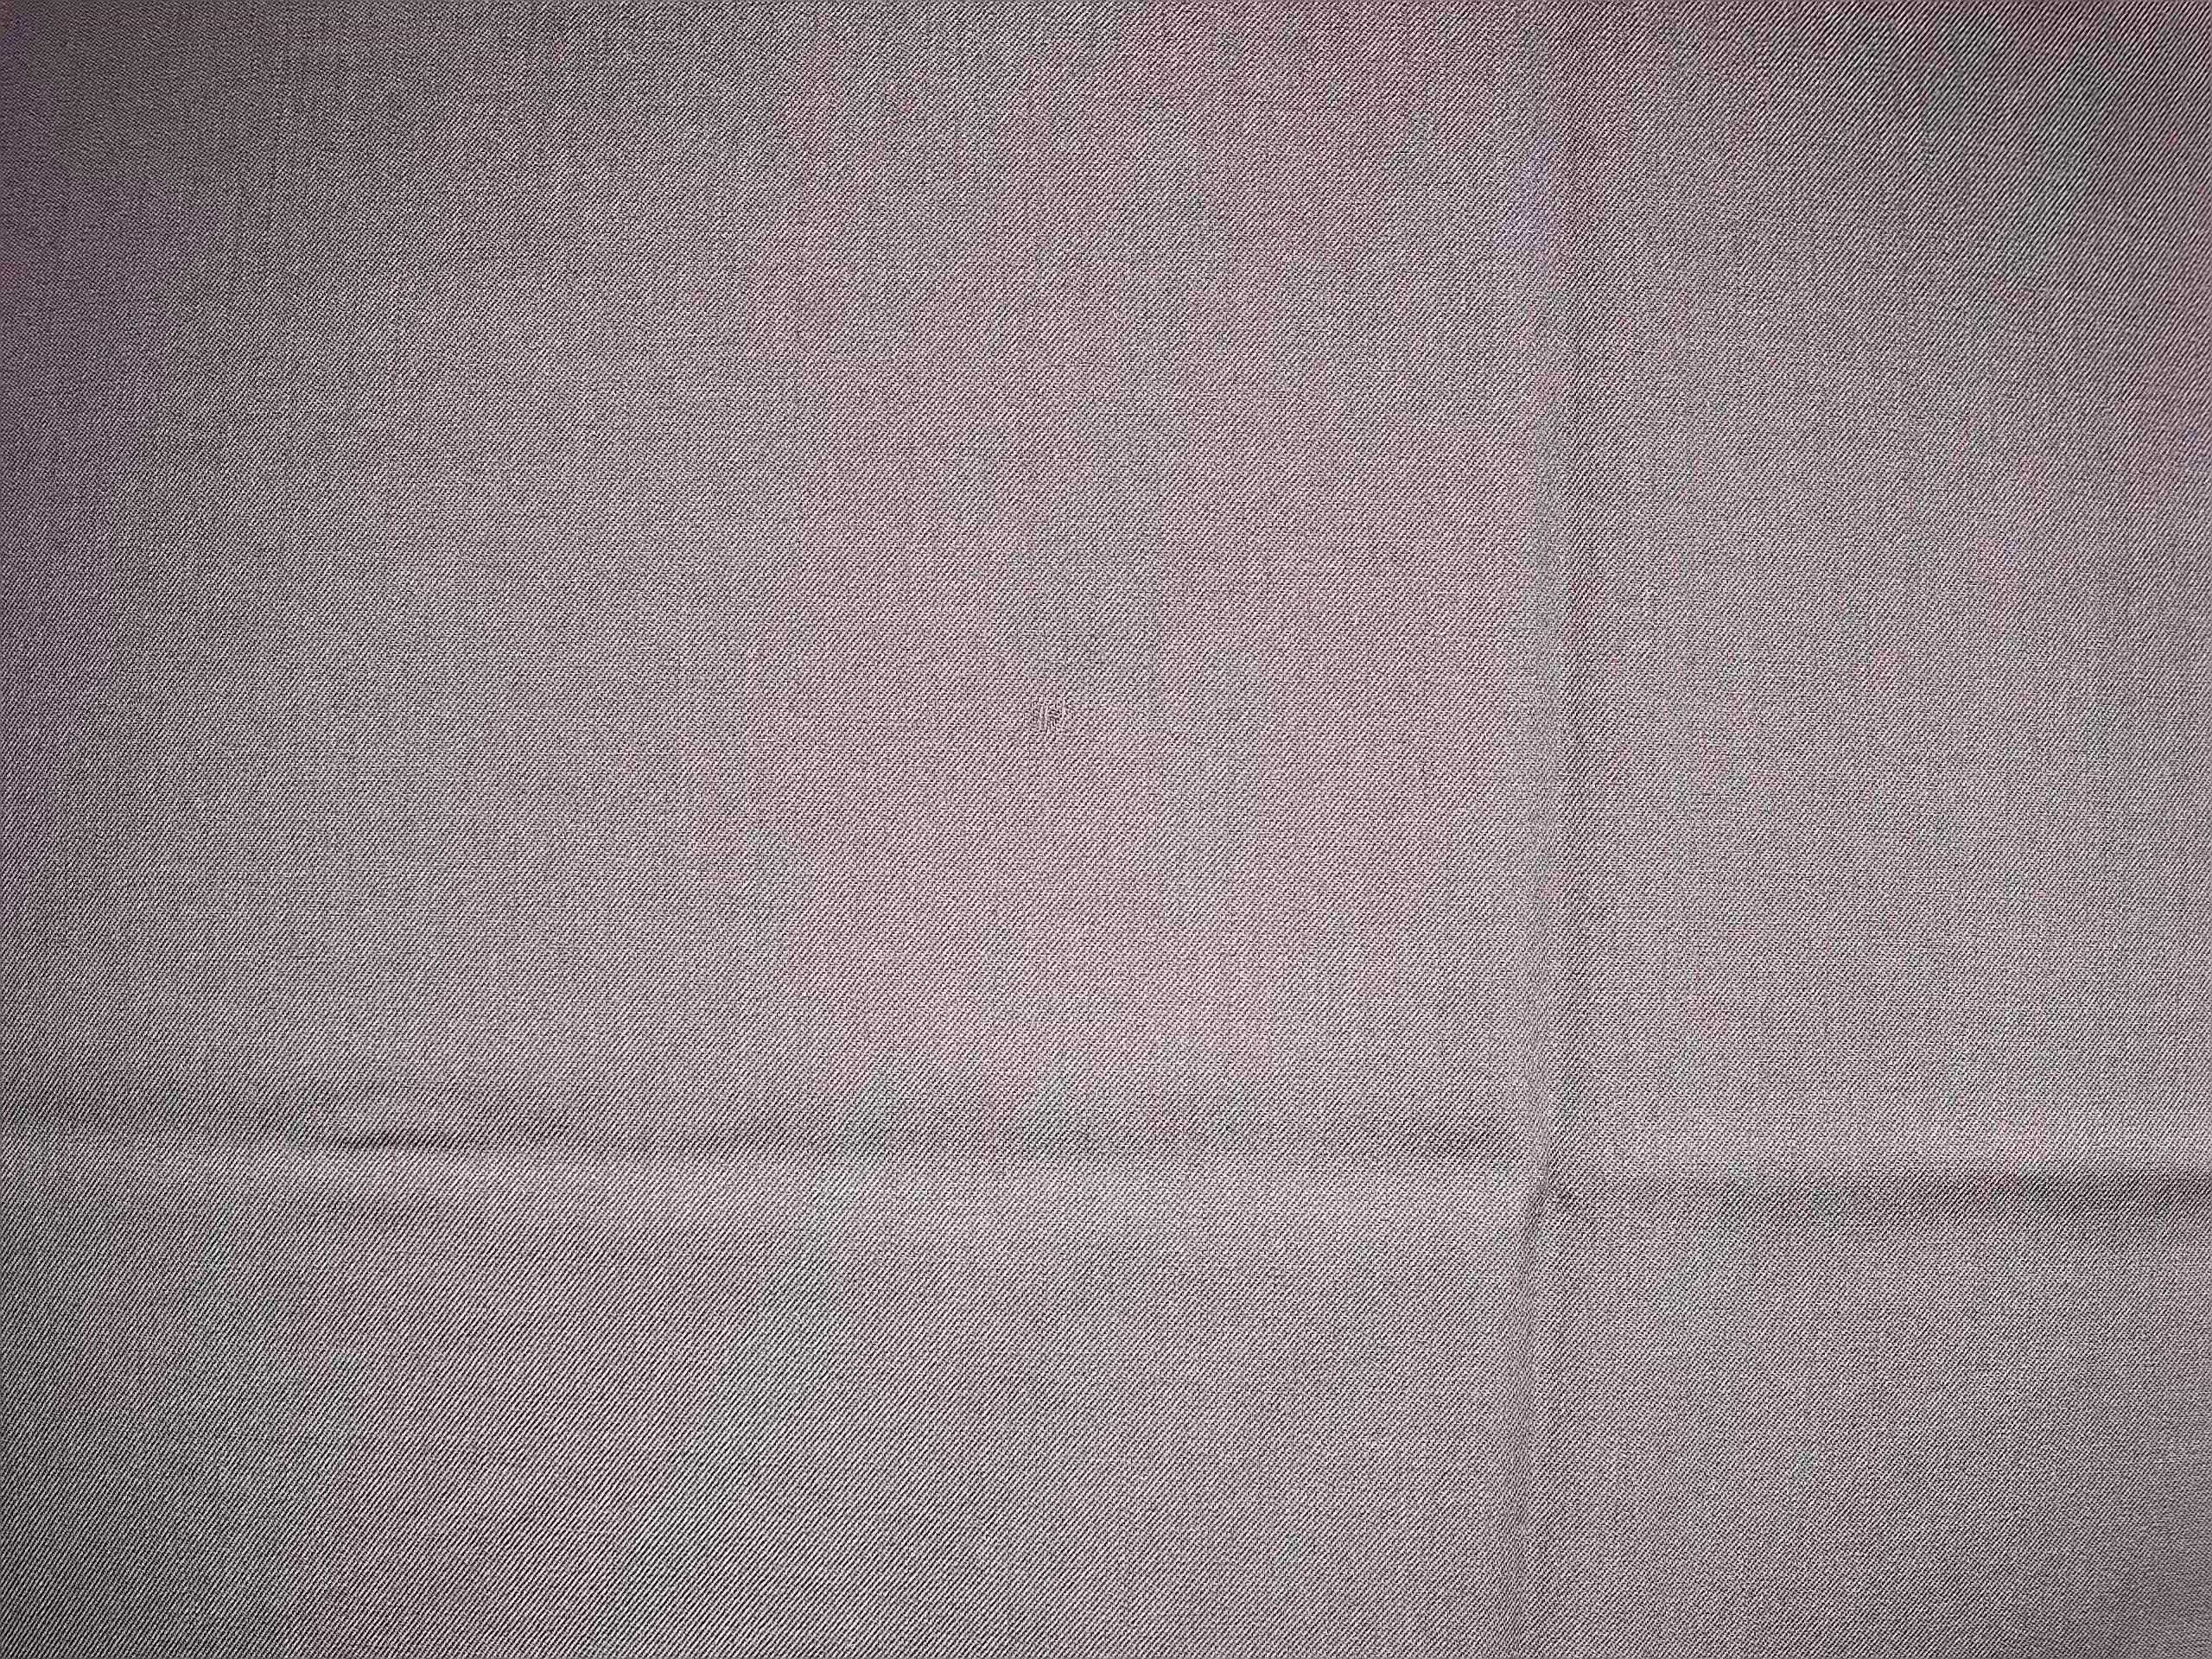jumps: (1000, 676, 1106, 762)
